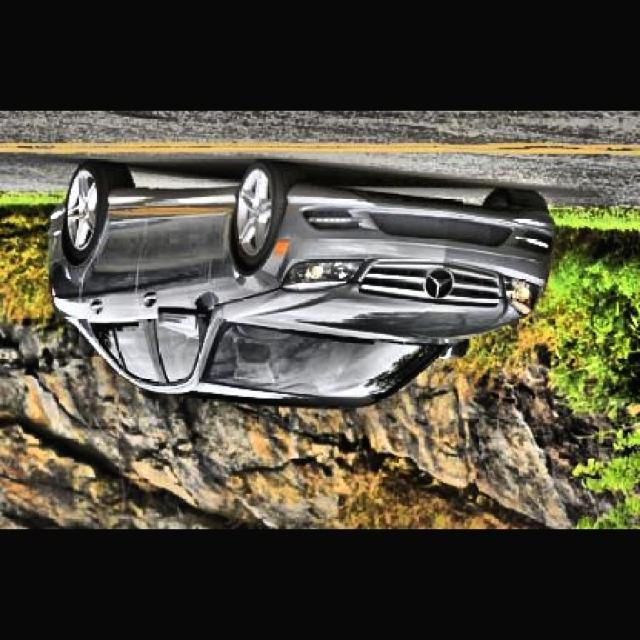black: (46, 160, 553, 412)
